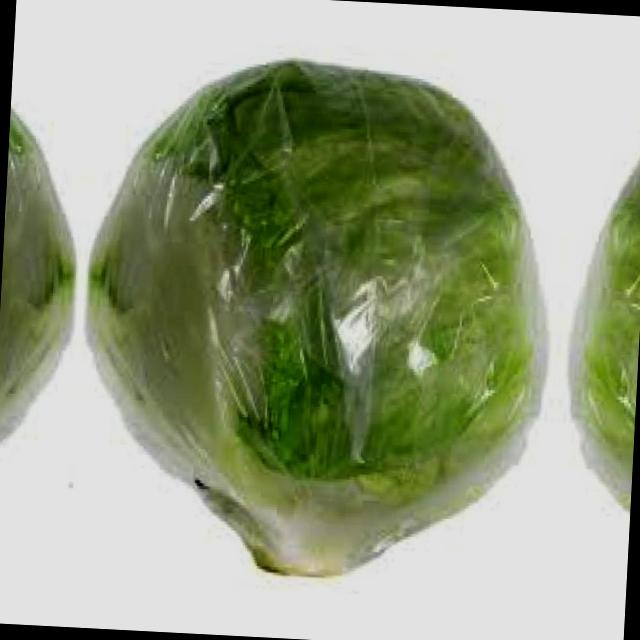healthy: (69, 40, 564, 586), (0, 36, 92, 561), (556, 65, 640, 590)
